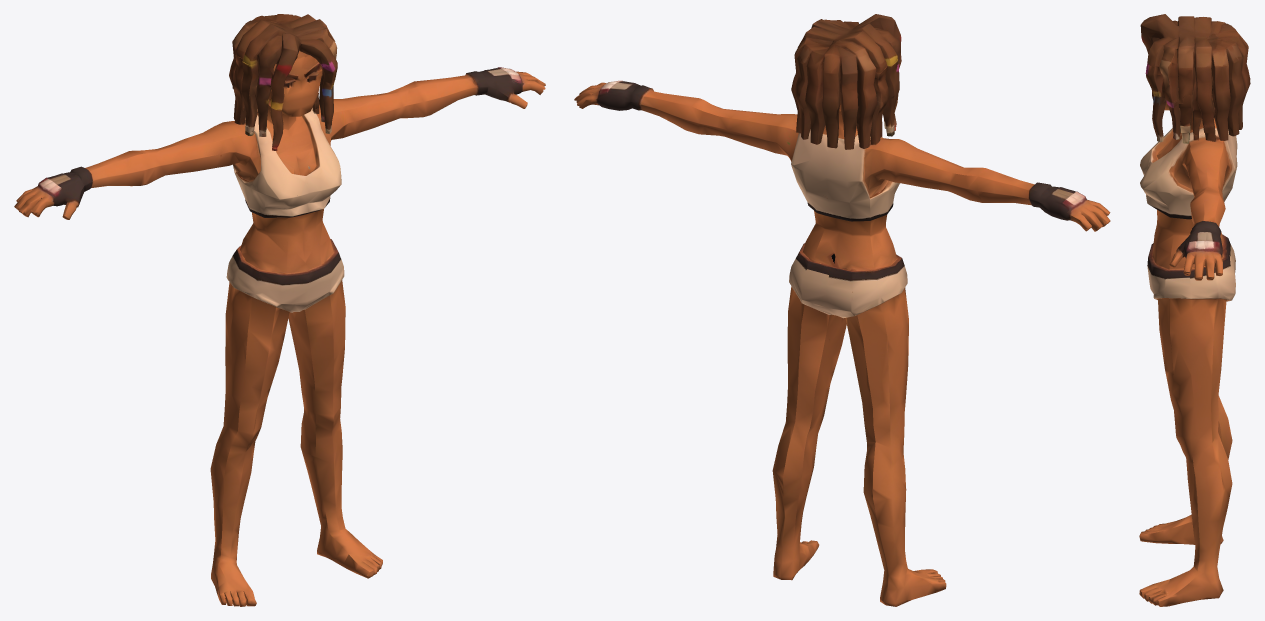
Rendered from body_base_female_c_idle.glb.
3 renders of one model, left to right at view 1: azimuth 30°, elevation 25°; view 2: azimuth 150°, elevation 25°; view 3: azimuth 270°, elevation 25°, orthographic. The views are drawn at different scales.
Parts seen in each view (by area): view 1: tripo_part_4; view 2: tripo_part_4; view 3: tripo_part_4.
Part boxes in pixels (x1=…): tripo_part_4: x1=14, y1=14, x2=545, y2=606; tripo_part_4: x1=574, y1=14, x2=1110, y2=606; tripo_part_4: x1=1139, y1=14, x2=1250, y2=606.
Bounding box in the file's own units: 1.66 × 1.68 × 0.3094.
5 materials, 5 textured.
